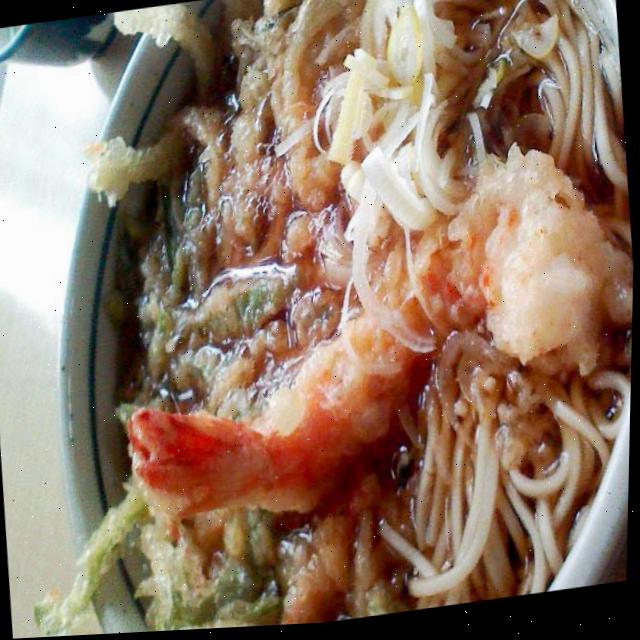面条主食: (22, 0, 640, 639)
